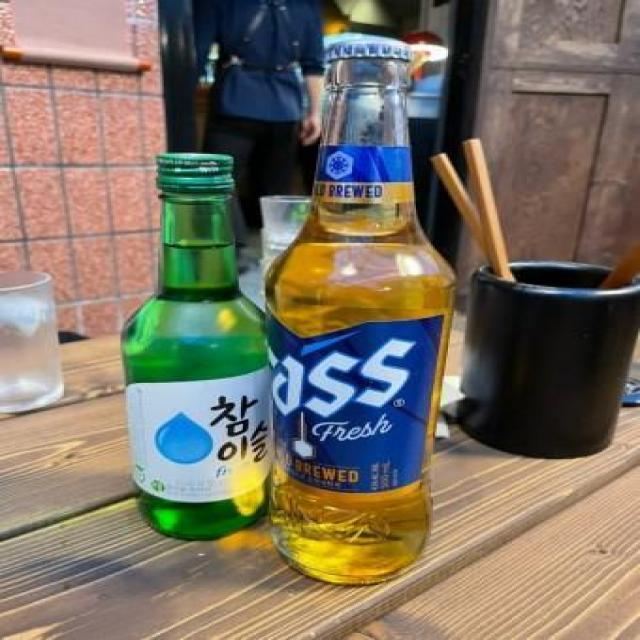beer-bottle: (268, 39, 460, 597)
soju-bottle: (119, 150, 274, 539)
